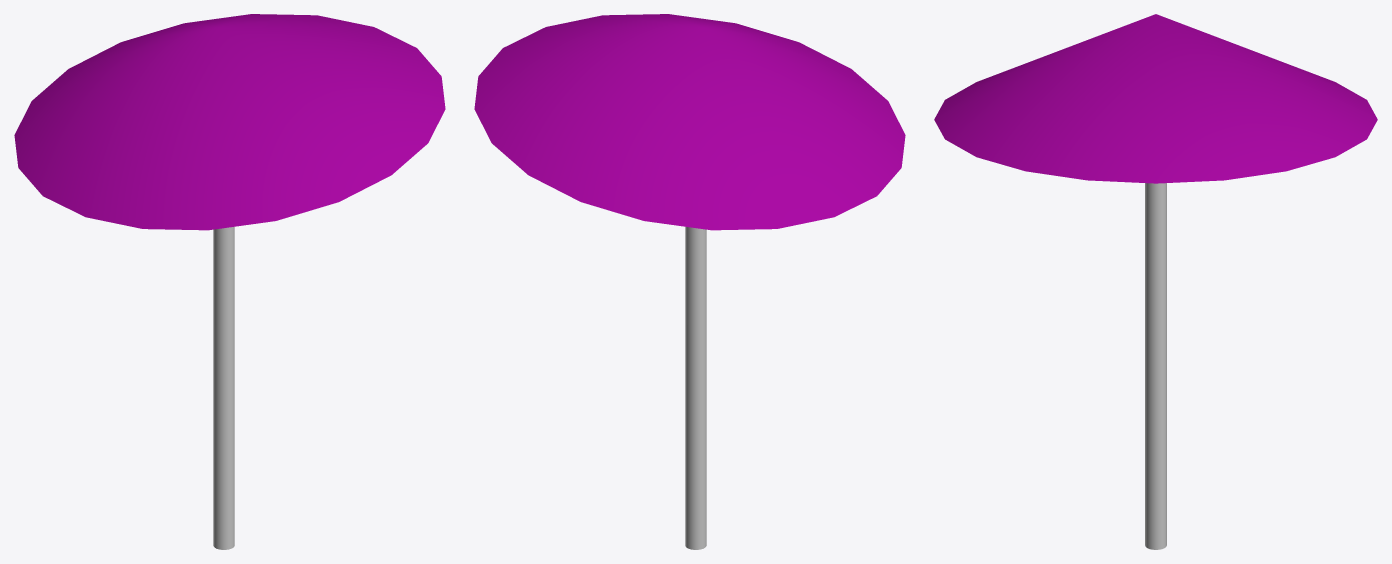
The model's file is UmbrellaPink.fbx.
3 renders of one model, left to right at view 1: azimuth 30°, elevation 25°; view 2: azimuth 150°, elevation 25°; view 3: azimuth 270°, elevation 25°, orthographic.
Visible parts, largest first — view 1: pCone8, pCylinder17; view 2: pCone8, pCylinder17; view 3: pCone8, pCylinder17.
Part boxes in pixels (x1,y1,x2,y2): pCone8: (14, 14, 445, 230); pCylinder17: (213, 226, 234, 549); pCone8: (474, 14, 905, 230); pCylinder17: (685, 226, 706, 549); pCone8: (934, 14, 1377, 183); pCylinder17: (1145, 183, 1166, 549).
Bounding box in the file's own units: 94.89 × 126 × 95.88.
